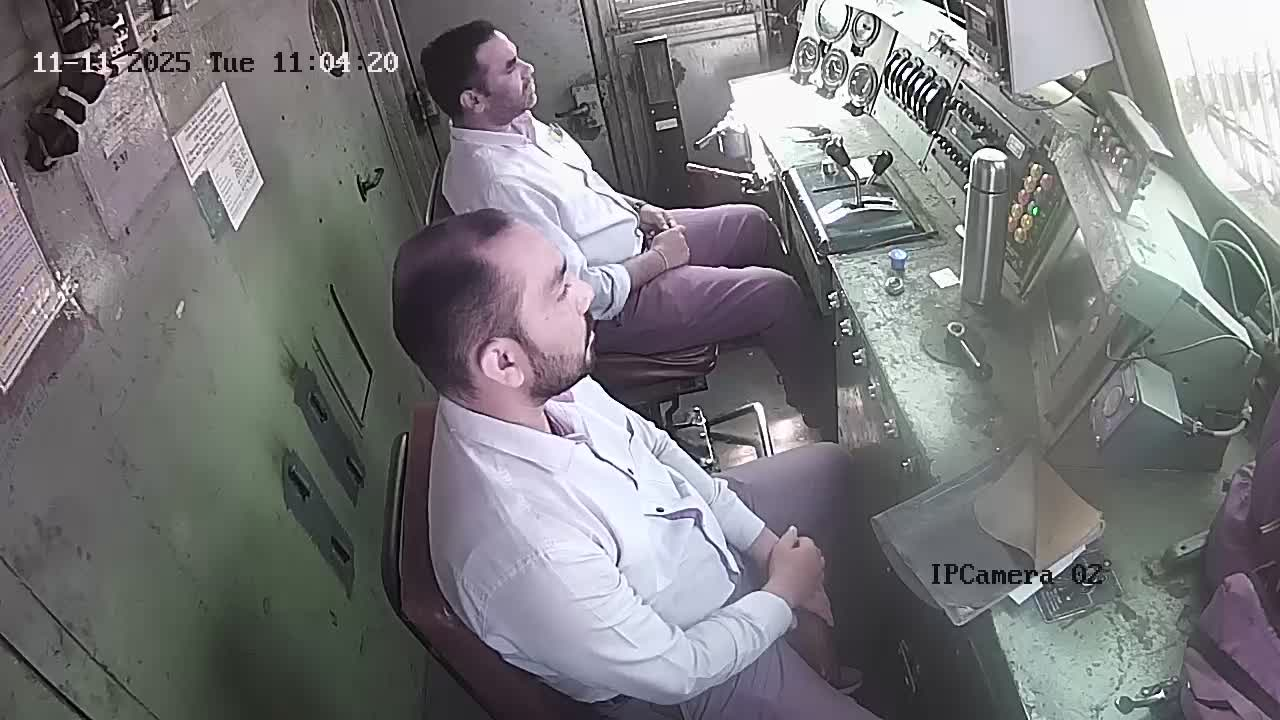person: (230, 173, 742, 662), (486, 36, 845, 396)
